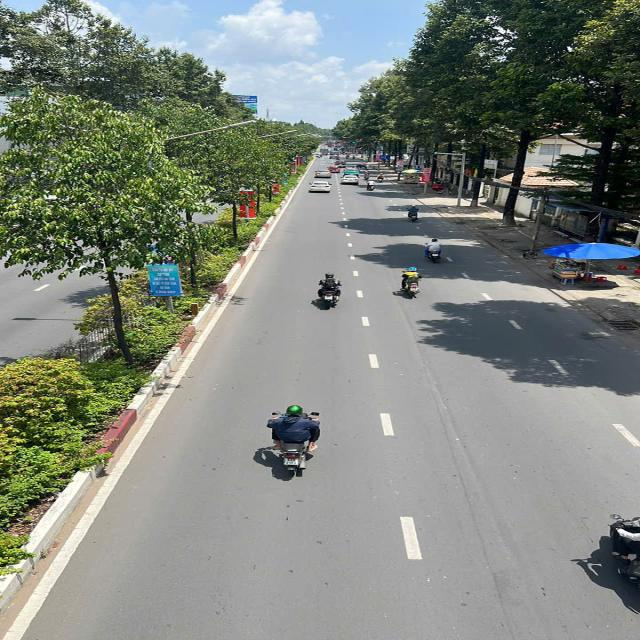Truck: (320, 149, 329, 156)
car: (310, 180, 330, 193), (341, 176, 358, 185), (345, 168, 359, 177), (315, 171, 332, 177), (328, 165, 339, 172), (335, 160, 345, 167), (329, 154, 340, 160)
motobyte: (262, 404, 310, 473), (320, 271, 344, 312), (395, 266, 423, 298), (418, 238, 452, 262), (406, 205, 422, 223), (368, 181, 376, 191), (378, 173, 383, 182), (365, 172, 370, 180), (366, 164, 370, 170), (345, 154, 349, 159)
